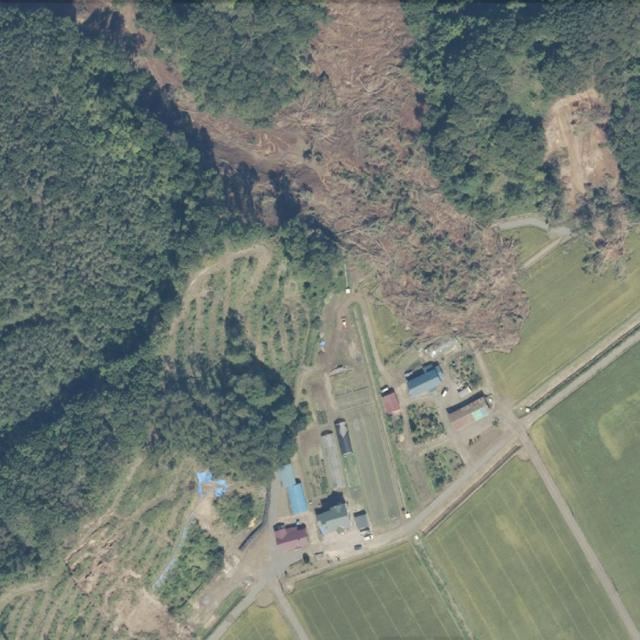landslide: (75, 0, 530, 350), (172, 1, 530, 350)
